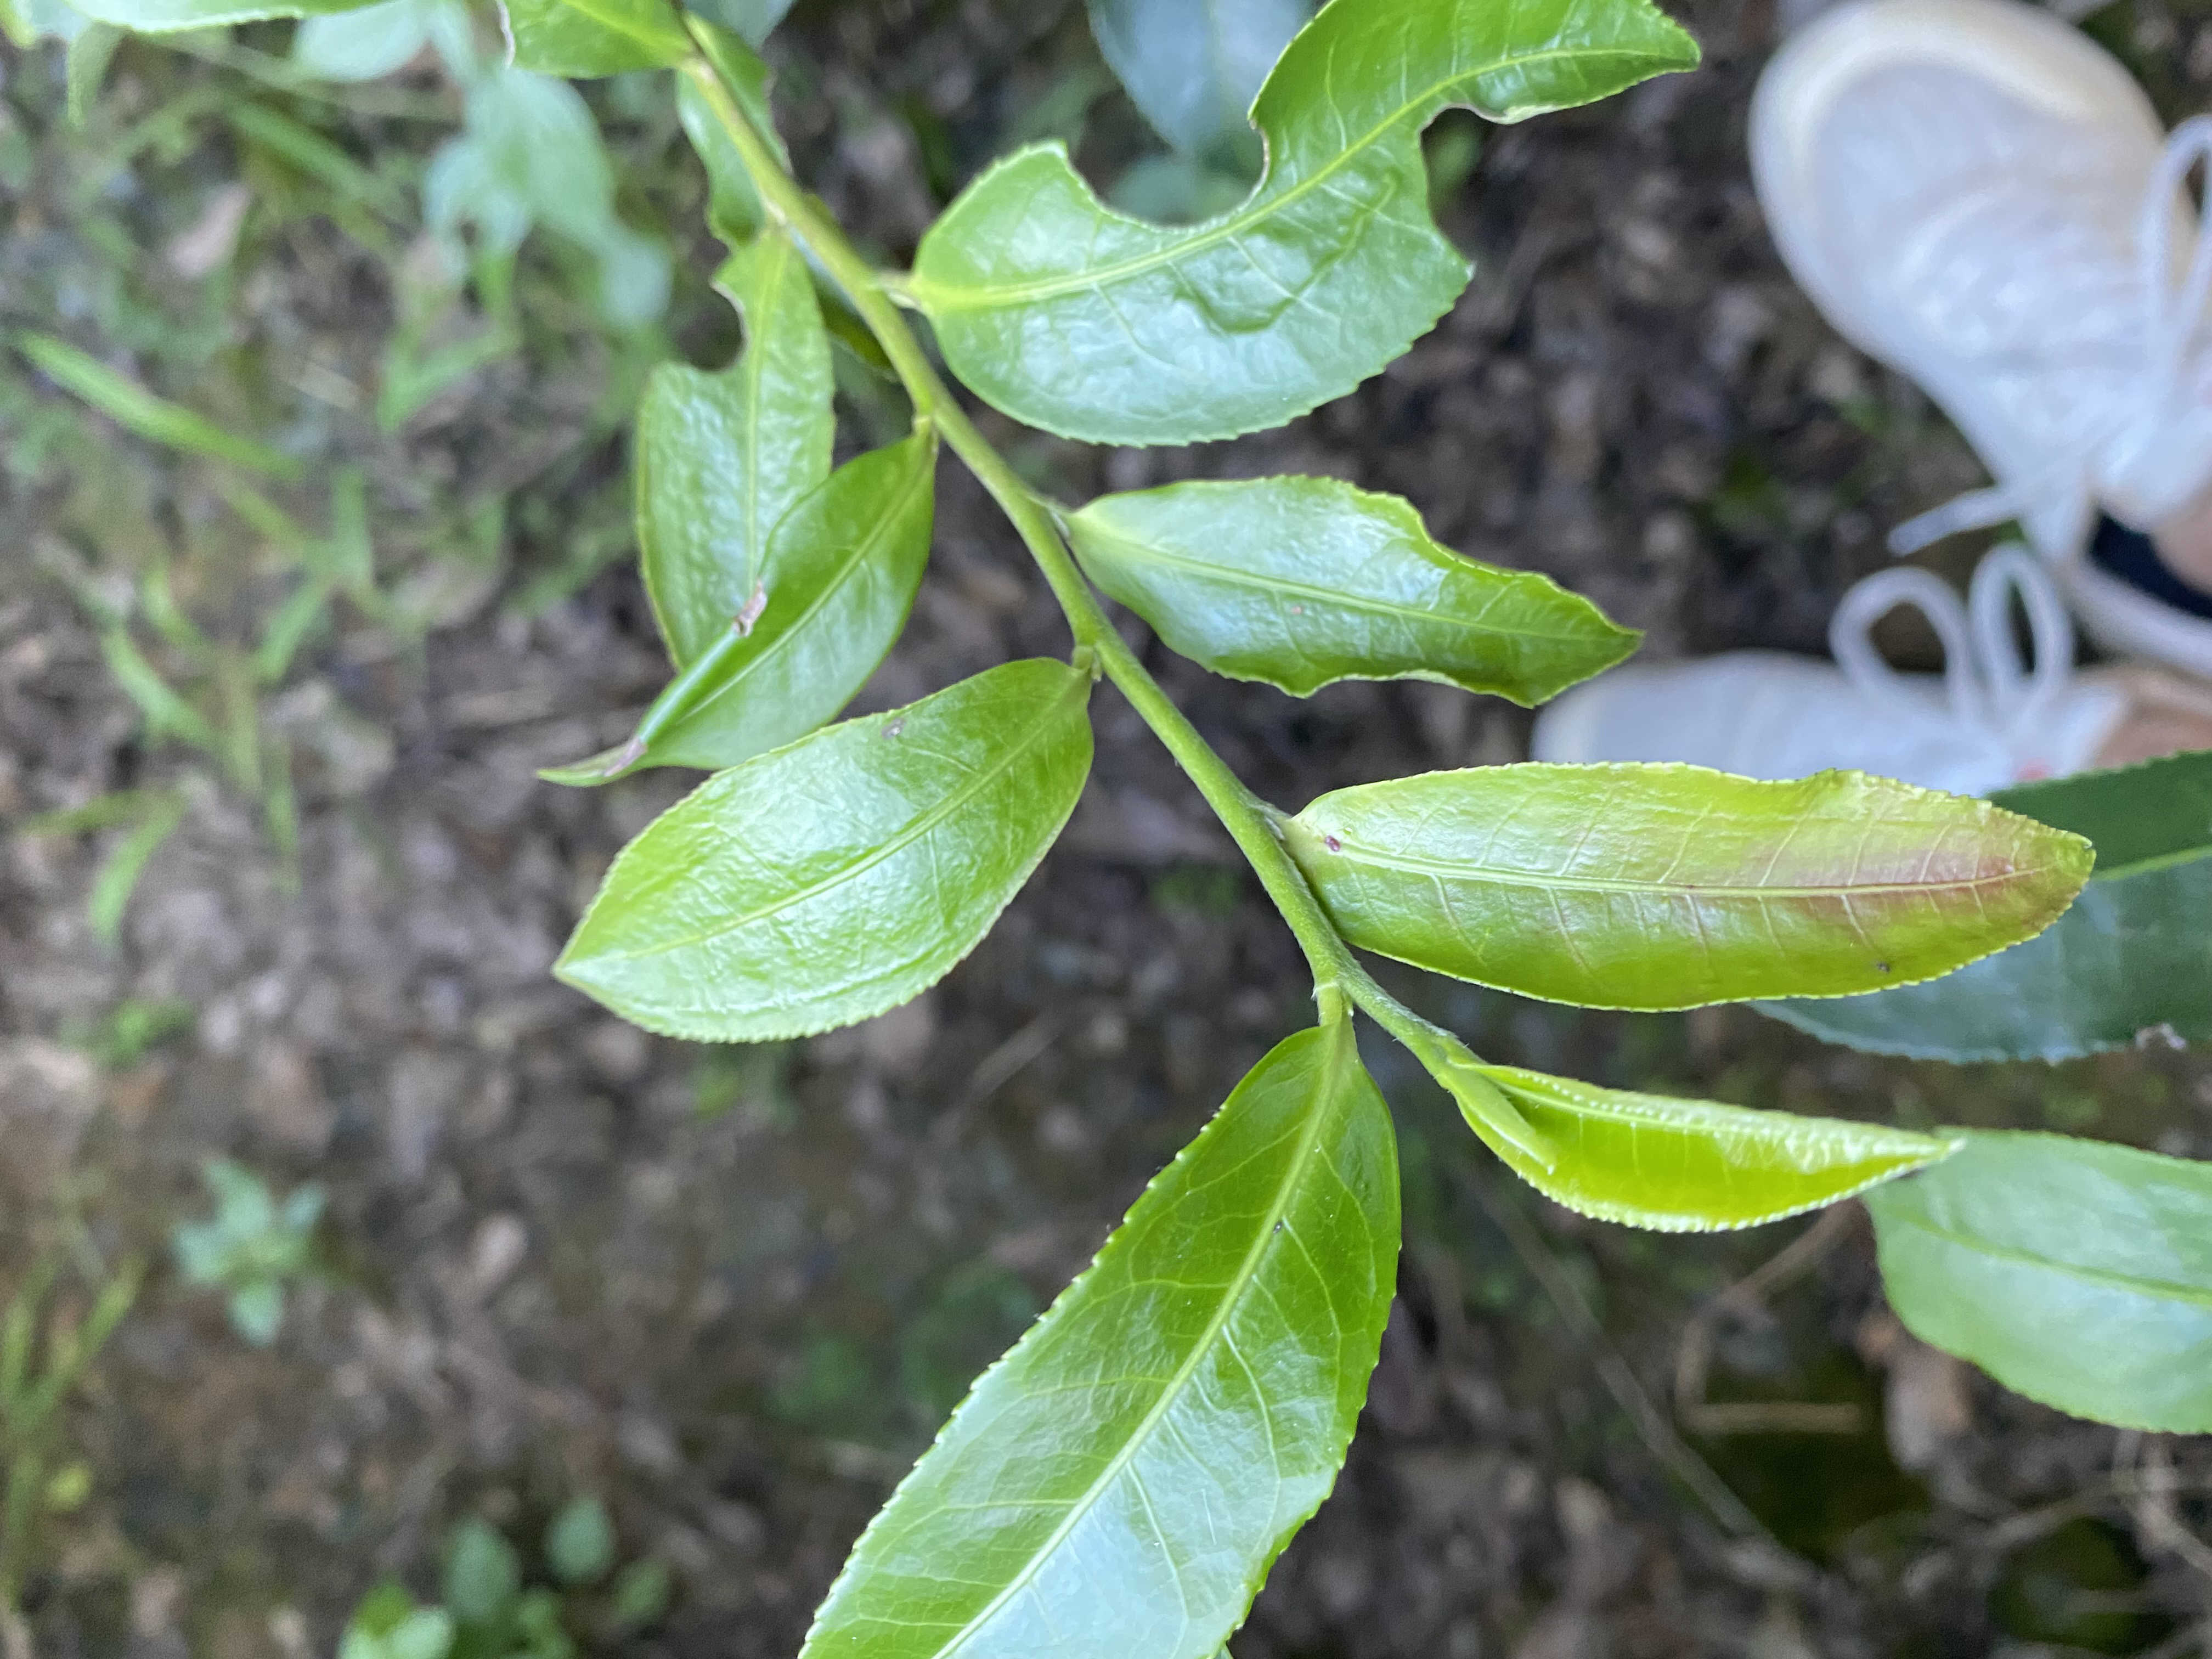chihuo_high: (909, 2, 1703, 455)
chihuo_low: (627, 234, 840, 671)
healthy: (798, 1023, 1404, 1657), (1069, 471, 1648, 711), (1444, 1035, 1965, 1237)
tanju_low: (545, 655, 1101, 1051), (1296, 760, 2106, 1011), (533, 437, 939, 789)
